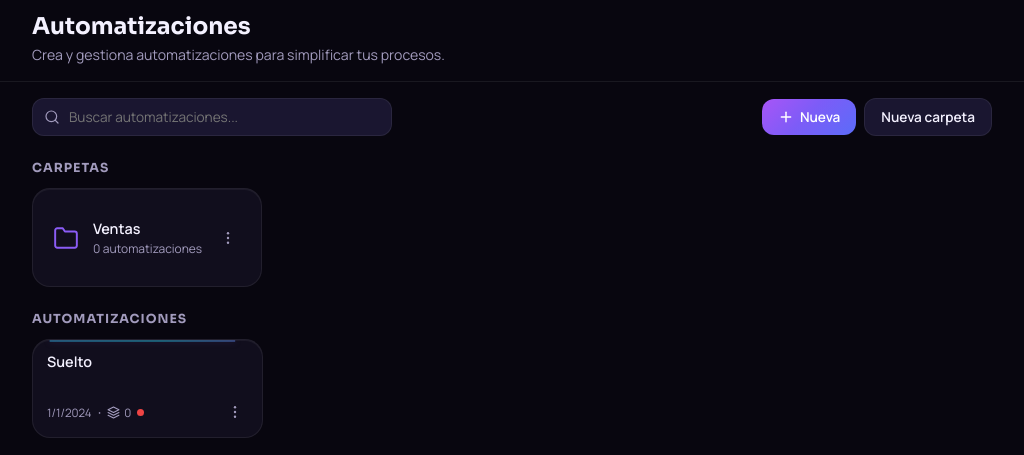
Test case: abrir una carpeta › una carpeta vacía lo dice, sin ofrecer acciones que no tocan
expect the text "Suelto" is shown: met, box 47,352 -> 92,372
Click the button "Ventas 0 automatizaciones" at (147, 238), box 32,188 -> 262,287
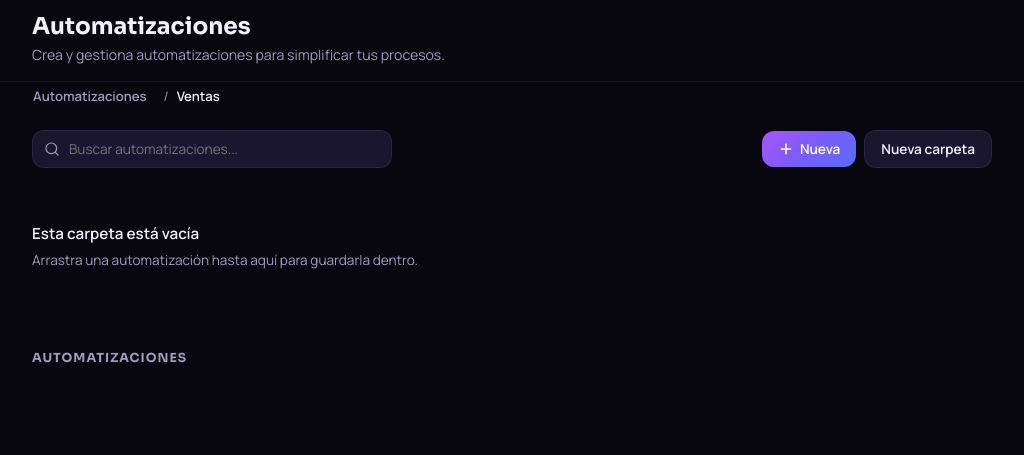
expect the text "Esta carpeta está vacía" is shown: met, box 32,223 -> 199,244
